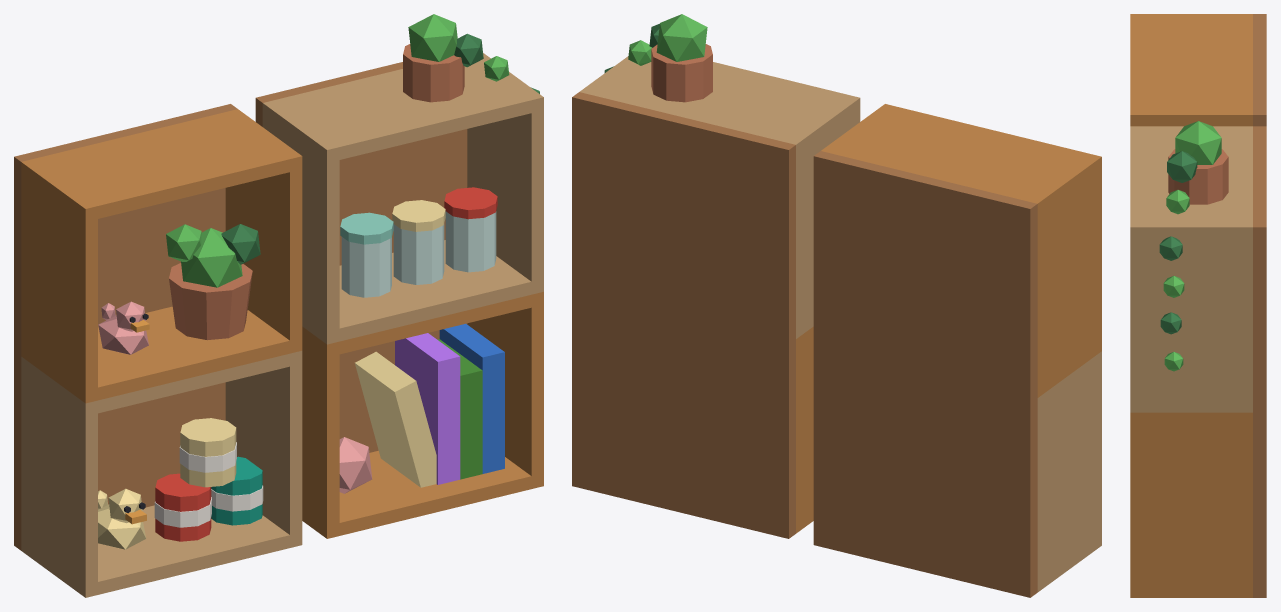
The model's file is CatCafe_Decor_CrateShelf.glb.
3 views of the same model, side by side, from view 1: azimuth 30°, elevation 25°; view 2: azimuth 150°, elevation 25°; view 3: azimuth 270°, elevation 25° (orthographic). The views are drawn at different scales.
Visible parts, largest first — view 1: CatCafe_Decor_CrateShelf; view 2: CatCafe_Decor_CrateShelf; view 3: CatCafe_Decor_CrateShelf.
Part boxes in pixels (x1,y1,x2,y2): CatCafe_Decor_CrateShelf: (14,14,543,597); CatCafe_Decor_CrateShelf: (572,14,1101,597); CatCafe_Decor_CrateShelf: (1130,14,1266,597).
Size of the model in its own units: 3.85 by 3.58 by 1.
Materials: 1 (1 with a texture image).
